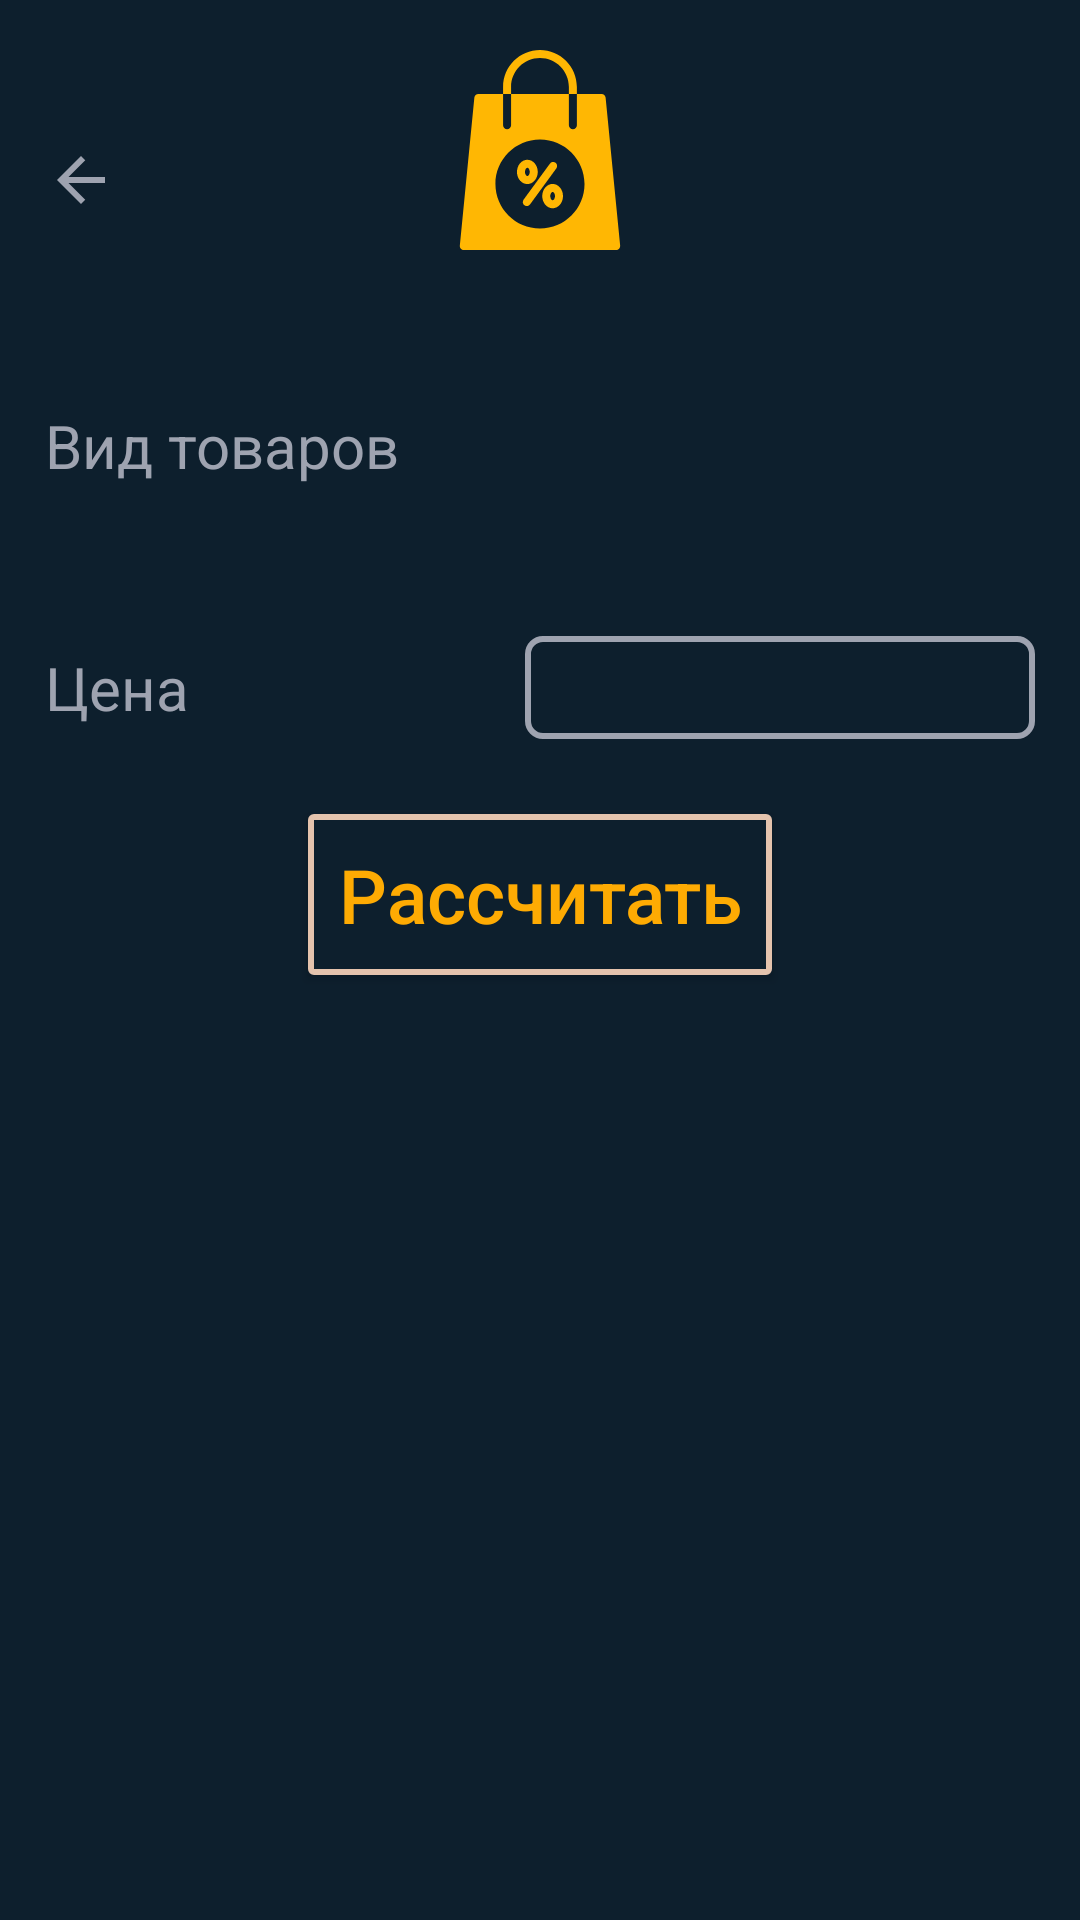

Where to tap for icons on this 1080 x 1920 app screen, as point (x, y):
arrow back hovered: point (81, 180)
bag: point (540, 150)
